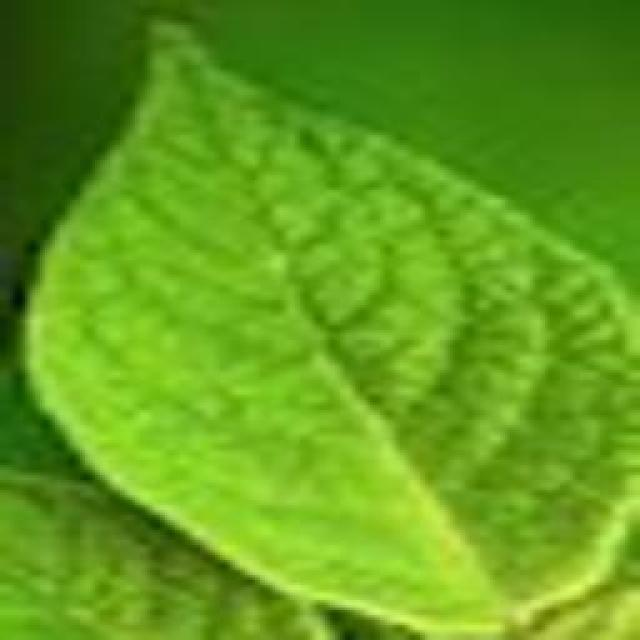healthy: (8, 8, 638, 638)
